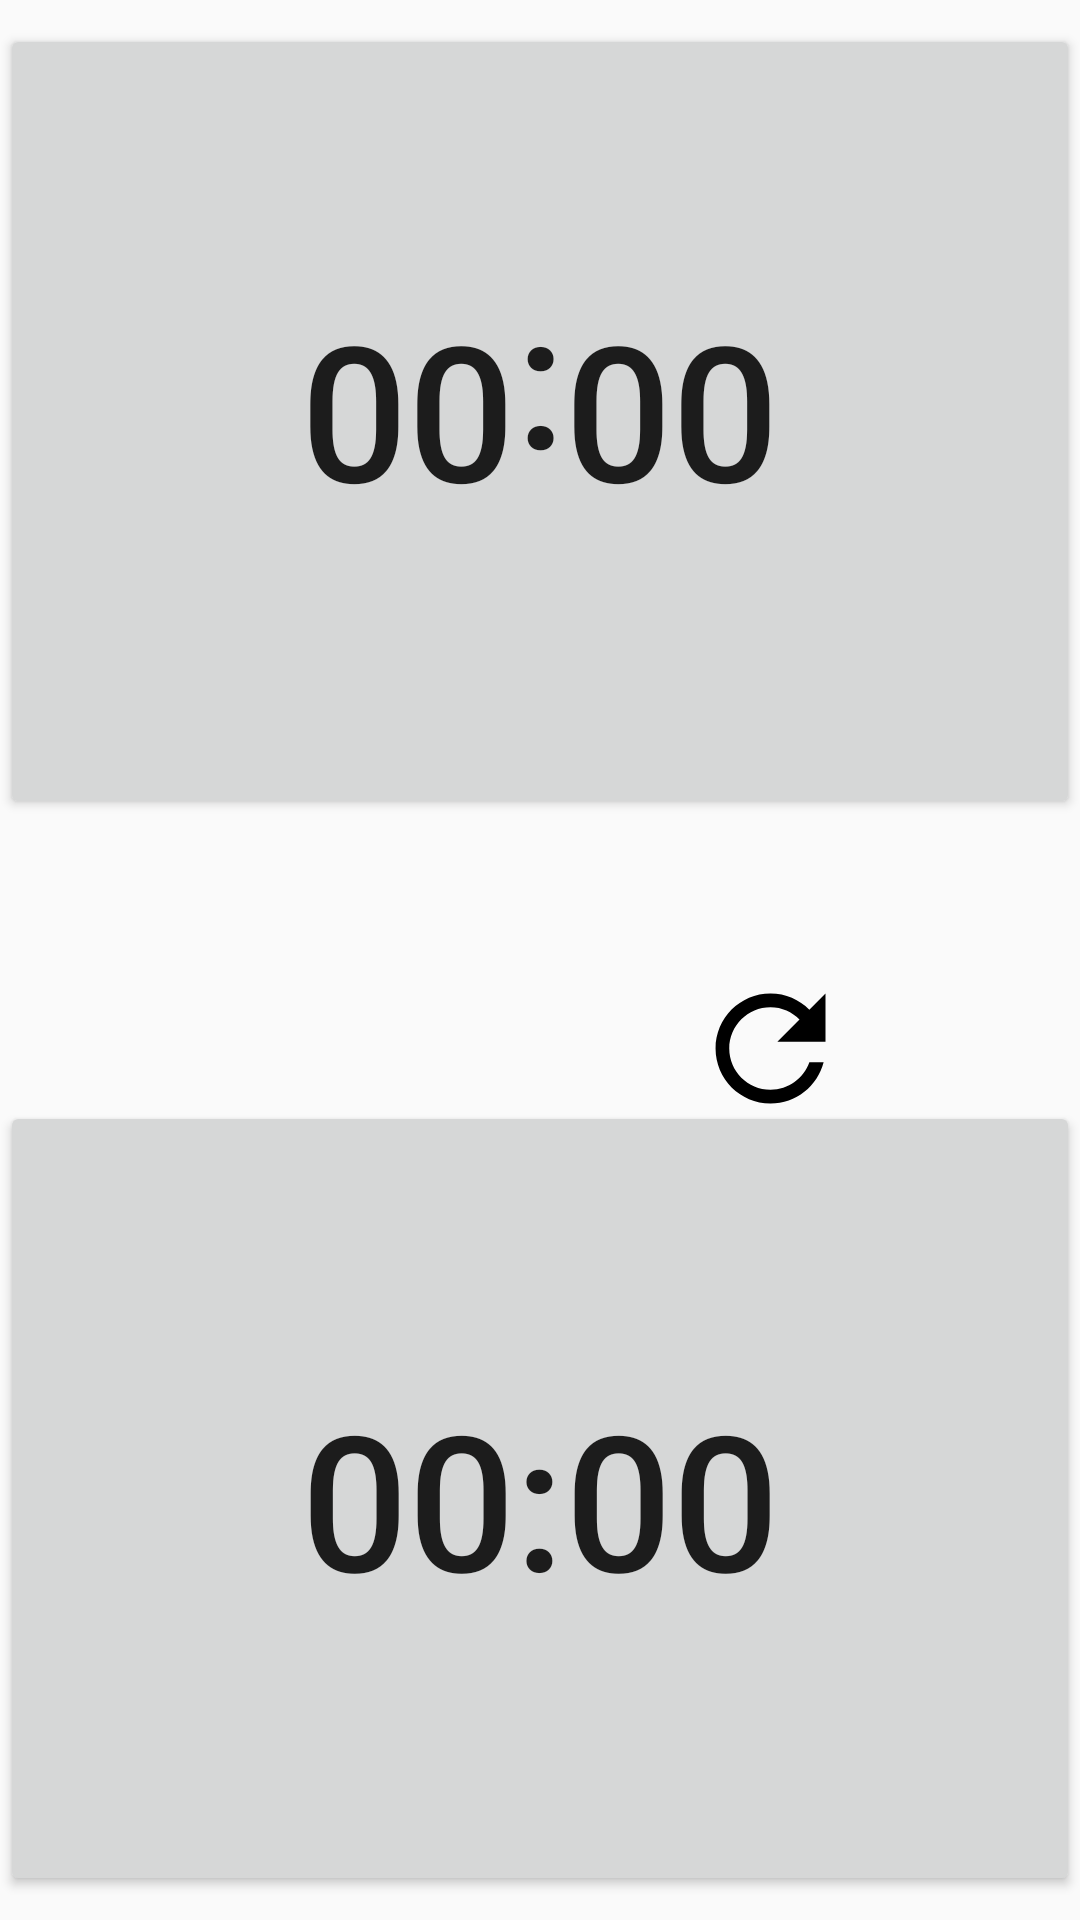

Icons on this 1080 × 1920 Android screen, each with the point to tap as point (x, y):
refresh: point (770, 1048)
